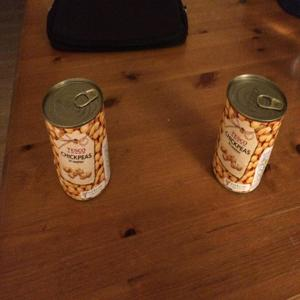metal: (206, 69, 298, 205), (40, 80, 117, 199)
